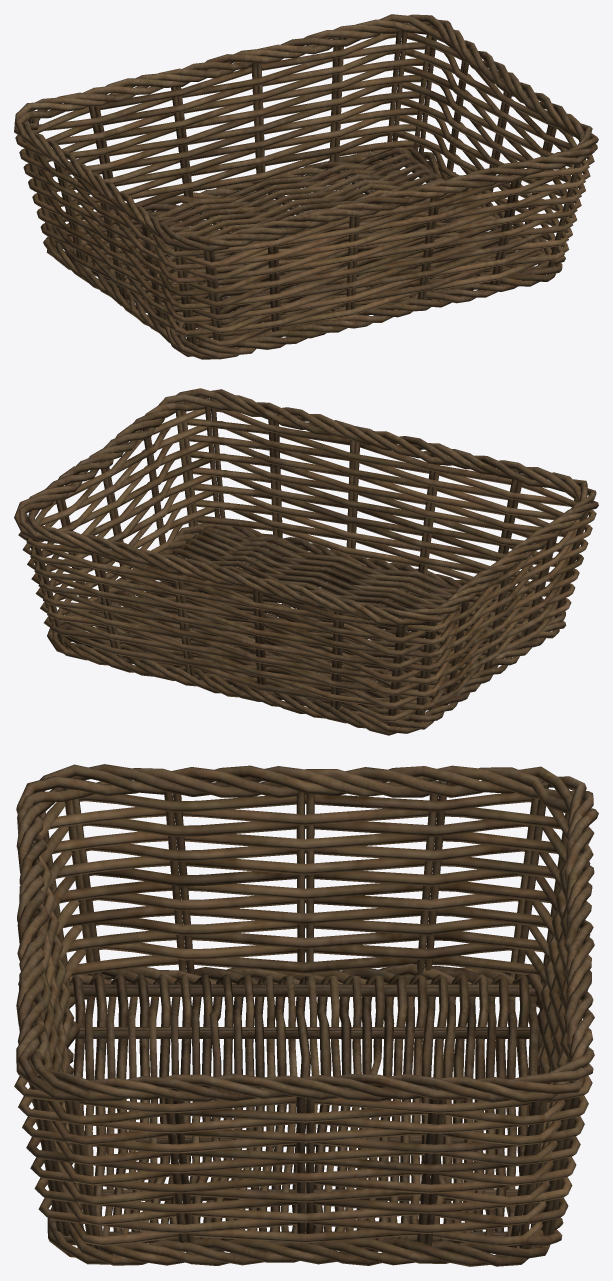
File: wicker_basket_01.glb
The picture shows the model from 3 angles, top to bottom: view 1: azimuth 30°, elevation 25°; view 2: azimuth 150°, elevation 25°; view 3: azimuth 270°, elevation 25°; orthographic projection. The views are drawn at different scales.
Visible parts, largest first — view 1: wicker_basket_01; view 2: wicker_basket_01; view 3: wicker_basket_01.
Boxes of the visible parts, left/top/right/bottom form: wicker_basket_01: left=14, top=14, right=598, bottom=359; wicker_basket_01: left=14, top=388, right=598, bottom=735; wicker_basket_01: left=14, top=764, right=598, bottom=1266.
Bounding box in the file's own units: 0.3832 × 0.1174 × 0.295.
Materials: 1 (1 with a texture image).
